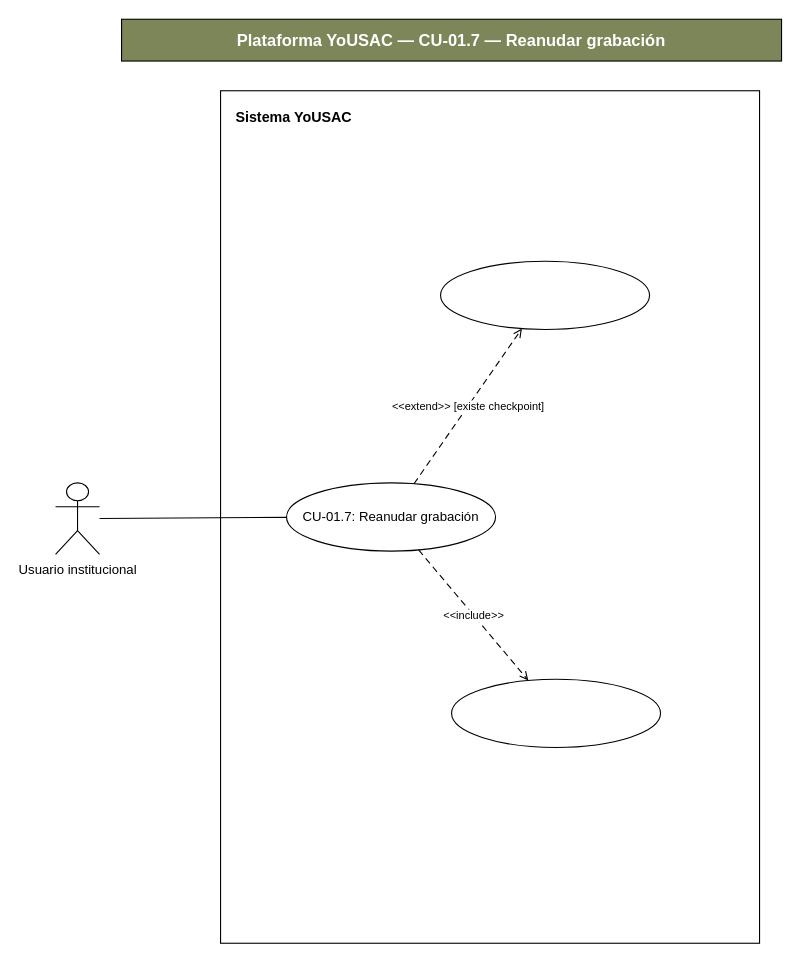
The diagram is 801 pixels wide and 963 high, and some of its shapes have lost their labels. The shapes that lost their labels are listed below. From the top down, each one's centre as x and y in pixels, then its label:
the point at 544,294: CU-01.6: Reproducir grabación
the point at 555,712: CU-01.7a: Recuperar checkpoint
